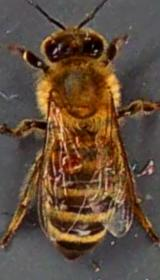varroa_mite: (54, 150, 91, 179)
